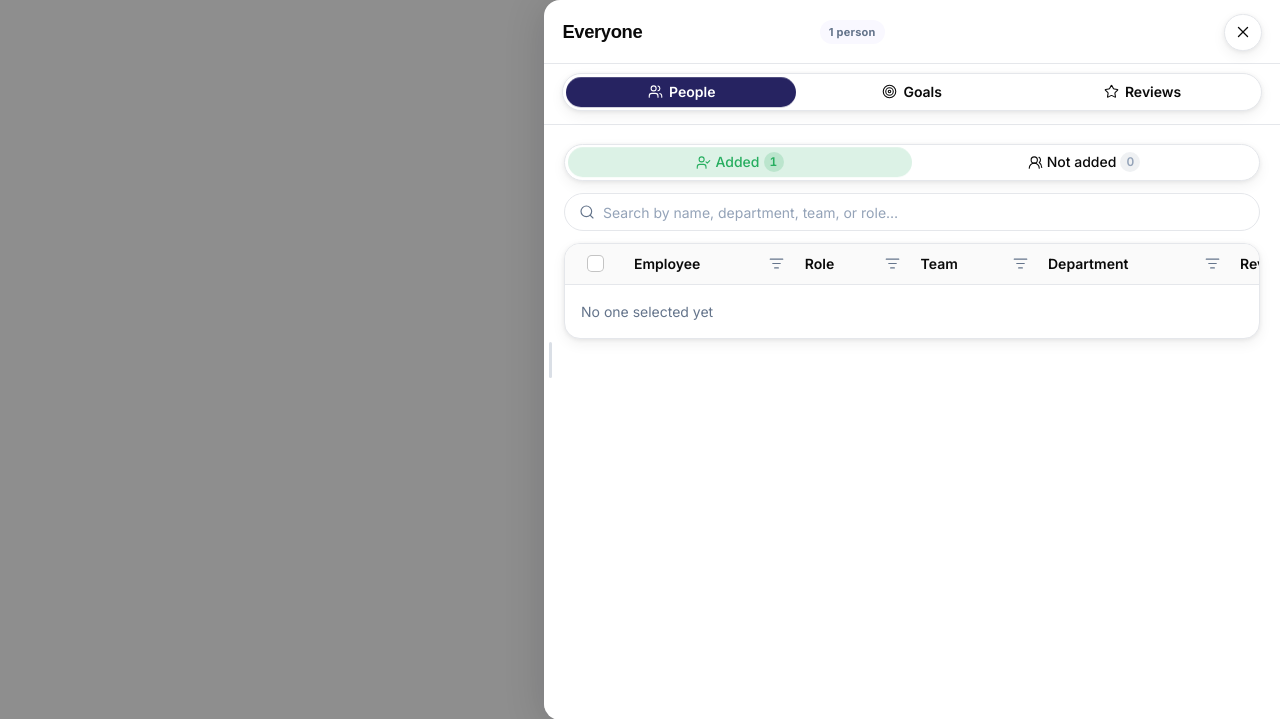
Test: GroupSettingsView › keeps the top nav when switching sections
This screenshot has width=1280, height=719.
Step 1. Click the button "Reviews" → (1142, 92), box x1=1027 y1=77 x2=1258 y2=107
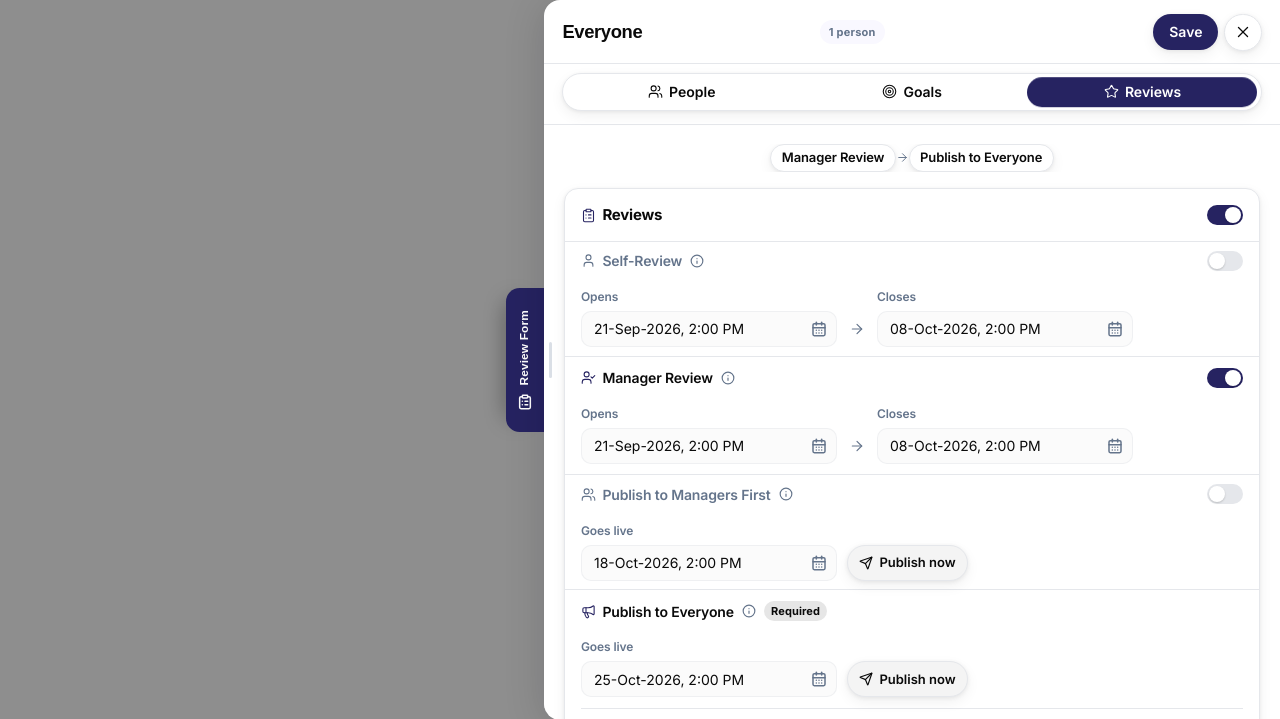
Check: the navigation bar named "Group settings" is shown, box x1=562 y1=73 x2=1262 y2=111
Check: the text "Added 1 Not added 0" is gone
